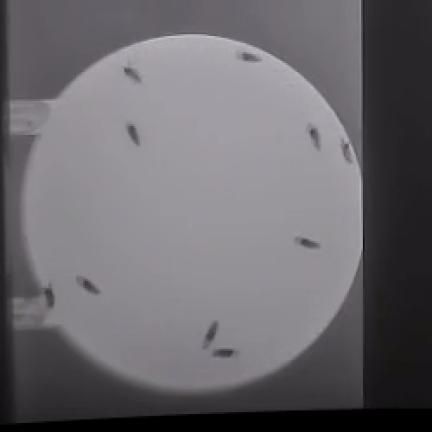fly: (203, 321, 219, 349), (77, 276, 100, 295), (296, 236, 319, 250), (308, 125, 321, 149), (123, 65, 141, 82), (341, 141, 354, 163), (127, 123, 139, 145), (213, 348, 238, 358), (44, 285, 55, 307), (239, 51, 260, 62)
